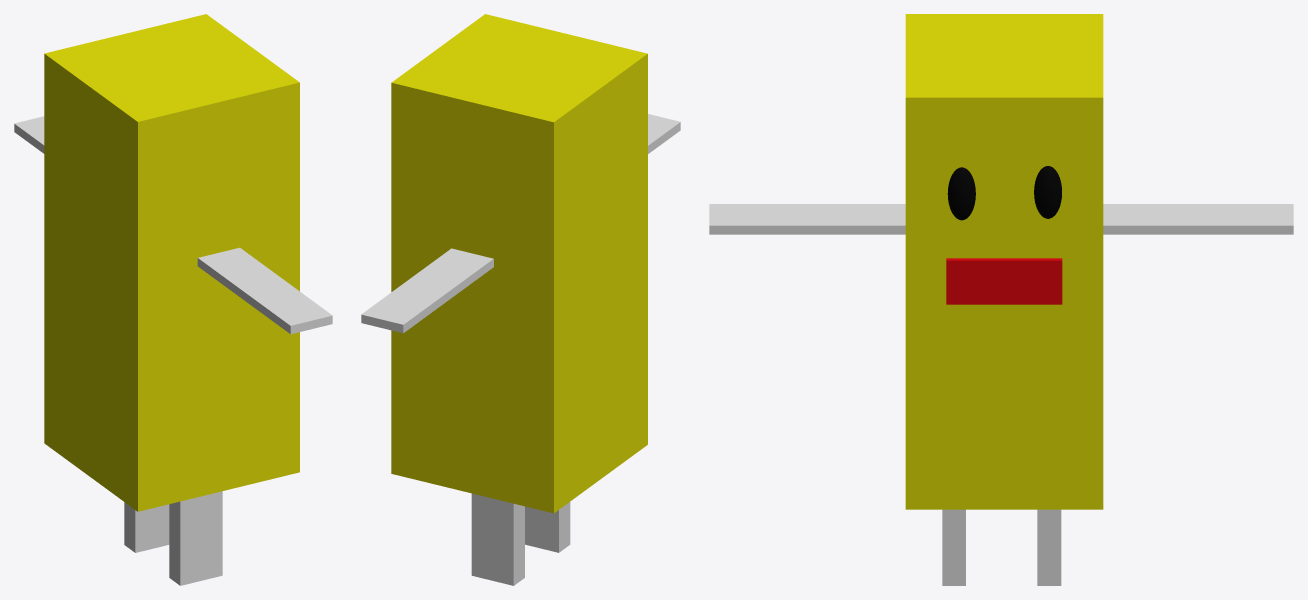
File: eraserMan.fbx
3 renders of one model, left to right at view 1: azimuth 30°, elevation 25°; view 2: azimuth 150°, elevation 25°; view 3: azimuth 270°, elevation 25°, orthographic. The views are drawn at different scales.
Parts seen in each view (by area): view 1: Cube, 立方体, 立方体.002, 立方体.003, 立方体.001; view 2: Cube, 立方体.001, 立方体.003, 立方体.002, 立方体; view 3: Cube, 立方体, 立方体.001, 立方体.004, 立方体.003, 立方体.002, 球, 球.001.
Part boxes in pixels (x1,y1,x2,y2): Cube: (44, 14, 299, 511); 立方体: (197, 247, 332, 334); 立方体.002: (169, 491, 222, 585); 立方体.003: (124, 502, 169, 552); 立方体.001: (14, 116, 44, 153); Cube: (391, 14, 647, 513); 立方体.001: (361, 248, 493, 333); 立方体.003: (471, 493, 524, 585); 立方体.002: (525, 502, 570, 552); 立方体: (648, 114, 680, 153); Cube: (905, 14, 1103, 509); 立方体: (709, 204, 905, 234); 立方体.001: (1103, 204, 1293, 234); 立方体.004: (946, 258, 1062, 304); 立方体.003: (1037, 509, 1061, 585); 立方体.002: (942, 509, 965, 585); 球: (947, 167, 975, 220); 球.001: (1034, 166, 1061, 218).
Size of the model in its own units: 2.11 by 5.79 by 5.91.
